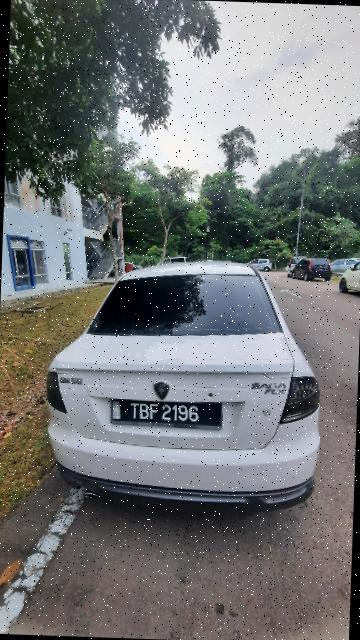License_Plate: (110, 395, 226, 436)
car: (41, 259, 328, 514)
